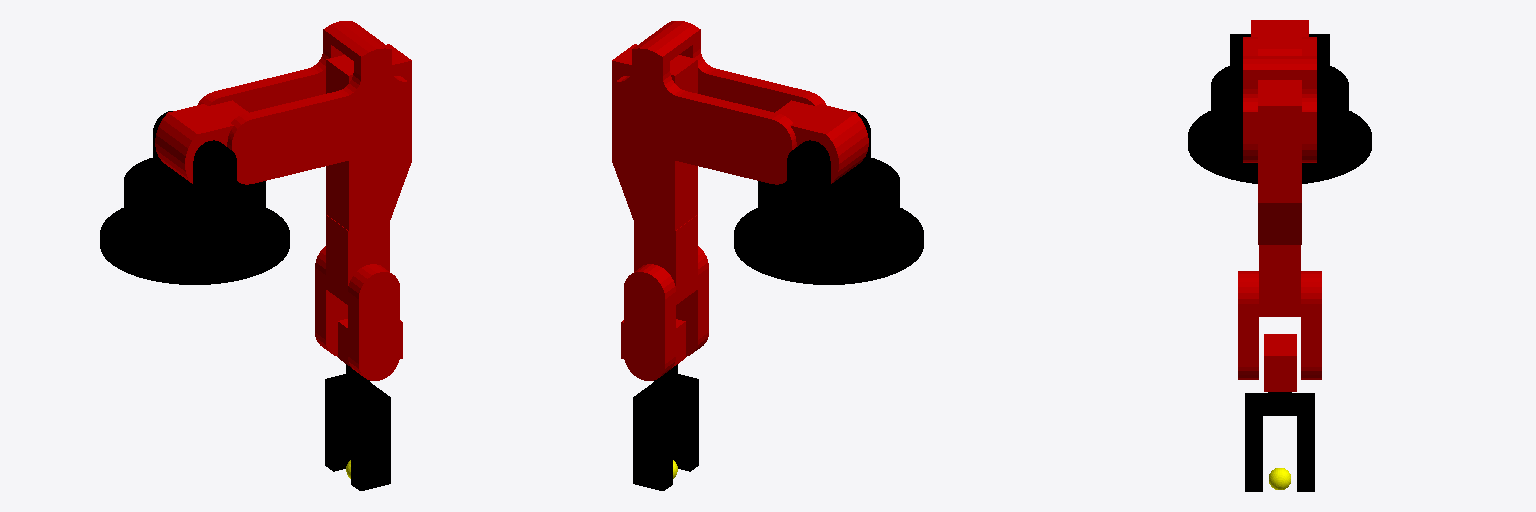
robot.urdf — kuka_lwr:
<?xml version="1.0" encoding="utf-8"?>
<!-- =================================================================================== -->
<!-- |    This document was autogenerated by xacro from fred.xacro                     | -->
<!-- |    EDITING THIS FILE BY HAND IS NOT RECOMMENDED                                 | -->
<!-- =================================================================================== -->
<robot name="kuka_lwr" xmlns:xacro="http://www.ros.org/wiki/xacro">
  <!-- right is either 1 (for right arm) or -1 (for left arm) -->
  <material name="black">
    <color rgba="0 0 0 1"/>
  </material>
  <material name="white">
    <color rgba="1 1 1 1"/>
  </material>
  <material name="red">
    <color rgba="0.8 0 0 1"/>
  </material>
  <material name="yellow">
    <color rgba="1 1 0 1"/>
  </material>
  <link name="base_link">
    <inertial>
      <origin rpy="0 0 0" xyz="0 0 0"/>
      <mass value=".0"/>
      <inertia ixx="0" ixy="0" ixz="0" iyy="0" iyz="0" izz="0"/>
    </inertial>
    <visual>
      <origin rpy="0 0 0" xyz="-0.08 -0.08 0"/>
      <geometry>
        <mesh filename="meshes_fred/base.stl" scale="0.001 0.001 0.001"/>
      </geometry>
      <material name="black"/>
    </visual>
  </link>
  <link name="base_plate">
    <inertial>
      <mass value="0.05"/>
      <origin rpy="0 0 0" xyz="0 0.09 0.0"/>
      <inertia ixx="4.50666666667e-05" ixy="0" ixz="0" iyy="9e-05" iyz="0" izz="4.50666666667e-05"/>
    </inertial>
    <visual>
      <origin rpy="0 0 0" xyz="-0.06 -0.06 0"/>
      <geometry>
        <mesh filename="meshes_fred/base_plate.stl" scale="0.001 0.001 0.001"/>
      </geometry>
      <material name="black"/>
    </visual>
  </link>
  <joint name="base_to_base_plate" type="revolute">
    <limit effort="1000.0" lower="0.0" upper="3.14159265359" velocity="10"/>
    <parent link="base_link"/>
    <child link="base_plate"/>
    <origin rpy="0 0 -1.57079632679" xyz="0 0 0.0545"/>
    <axis xyz="0 0 1"/>
  </joint>
  <link name="arm_lower">
    <inertial>
      <mass value="0.2"/>
      <origin rpy="0 0 0" xyz="0 0.09 0.0"/>
      <inertia ixx="0.0006" ixy="0" ixz="0" iyy="0.00012" iyz="0" izz="0.0006"/>
    </inertial>
    <visual>
      <origin rpy="0 1.57079632679 0" xyz="-0.032 -0.0243 0.030"/>
      <geometry>
        <mesh filename="meshes_fred/arm_lower.stl" scale="0.001 0.001 0.001"/>
      </geometry>
      <material name="red"/>
    </visual>
    <collision>
      <origin rpy="0 1.57079632679 0" xyz="-0.032 -0.0243 0.030"/>
      <geometry>
        <mesh filename="meshes_fred/arm_lower_col.stl" scale="0.001 0.001 0.001"/>
      </geometry>
    </collision>
  </link>
  <joint name="base_plate_to_arm_lower" type="revolute">
    <limit effort="1000.0" lower="0.0" upper="3.14159265359" velocity="10"/>
    <parent link="base_plate"/>
    <child link="arm_lower"/>
    <origin rpy="3.14159265359 0 3.14159265359" xyz="0 0 0.036"/>
    <axis xyz="-1 0 0"/>
  </joint>
  <link name="arm_upper">
    <inertial>
      <mass value="0.3"/>
      <origin rpy="0 0 0" xyz="0.0 0.03 -0.01"/>
      <inertia ixx="0.00045" ixy="0" ixz="0" iyy="0.00013" iyz="0" izz="0.0004"/>
    </inertial>
    <visual>
      <origin rpy="0 3.14159265359 0" xyz="0.019 -0.0415 0.02"/>
      <geometry>
        <mesh filename="meshes_fred/arm_upper.stl" scale="0.001 0.001 0.001"/>
      </geometry>
      195
      
      <material name="red"/>
    </visual>
    <collision>
      <origin rpy="0 3.14159265359 0" xyz="0.019 -0.0415 0.02"/>
      <geometry>
        <mesh filename="meshes_fred/arm_upper.stl" scale="0.001 0.001 0.001"/>
      </geometry>
      195
   
    </collision>
  </link>
  <joint name="arm_lower_to_arm_upper" type="revolute">
    <limit effort="1000.0" lower="-1.57079632679" upper="3.14159265359" velocity="10"/>
    <parent link="arm_lower"/>
    <child link="arm_upper"/>
    <origin rpy="1.57079632679 0 0" xyz="0 0.158 0"/>
    <axis xyz="-1 0 0"/>
  </joint>
  <link name="wrist">
    <inertial>
      <mass value="0.1"/>
      <origin rpy="0 0 0" xyz="0.0 0.065 0.0"/>
      <inertia ixx="0.000133333333333" ixy="0" ixz="0" iyy="5.41666666667e-05" iyz="0" izz="0.000160833333333"/>
    </inertial>
    <visual>
      <origin rpy="0 0 0" xyz="-0.036625 0 -0.02"/>
      <geometry>
        <mesh filename="meshes_fred/wrist.stl" scale="0.001 0.001 0.001"/>
      </geometry>
      <material name="red"/>
    </visual>
    <collision>
      <origin rpy="0 0 0" xyz="-0.036625 0 -0.02"/>
      <geometry>
        <mesh filename="meshes_fred/wrist.stl" scale="0.001 0.001 0.001"/>
      </geometry>
    </collision>
  </link>
  <joint name="arm_upper_to_wrist" type="continuous">
    <parent link="arm_upper"/>
    <child link="wrist"/>
    <origin xyz="0 0.102 0"/>
    <axis xyz="0 1 0"/>
  </joint>
  <link name="wrist_servo">
    <inertial>
      <mass value="0.04"/>
      <origin rpy="0 0 0" xyz="0.0 0.0 -0.015"/>
      <inertia ixx="0.00030675" ixy="0" ixz="0" iyy="9.75e-06" iyz="0" izz="0.000303"/>
    </inertial>
    <visual>
      <origin rpy="0 0 1.57079632679" xyz="0.0145 -0.017 -0.03525"/>
      <geometry>
        <mesh filename="meshes_fred/servo.stl" scale="0.001 0.001 0.001"/>
      </geometry>
      <material name="red"/>
    </visual>
    <collision>
      <origin rpy="0 0 1.57079632679" xyz="0.0145 -0.017 -0.03525"/>
      <geometry>
        <mesh filename="meshes_fred/servo.stl" scale="0.001 0.001 0.001"/>
      </geometry>
    </collision>
  </link>
  <joint name="wrist_to_wrist_servo" type="continuous">
    <parent link="wrist"/>
    <child link="wrist_servo"/>
    <origin xyz="0 0.11625 0"/>
    <axis xyz="-1 0 0"/>
  </joint>
  <link name="gripper">
    <inertial>
      <mass value="0.01"/>
      <origin rpy="0 0 0" xyz="0.0 0.038 0.0"/>
      <inertia ixx="5.4375e-06" ixy="0" ixz="0" iyy="3.75e-06" iyz="0" izz="7.6875e-06"/>
    </inertial>
    <visual>
      <origin rpy="-1.57079632679 0 0" xyz="-0.03 0 0.015"/>
      <geometry>
        <mesh filename="meshes_fred/gripper.stl" scale="0.001 0.001 0.001"/>
      </geometry>
      <material name="black"/>
    </visual>
    <collision>
      <origin rpy="-1.57079632679 0 0" xyz="-0.03 0 0.015"/>
      <geometry>
        <mesh filename="meshes_fred/gripper.stl" scale="0.001 0.001 0.001"/>
      </geometry>
    </collision>
  </link>
  <joint name="wrist_servo_to_gripper" type="continuous">
    <parent link="wrist_servo"/>
    <child link="gripper"/>
    <origin xyz="0 0.017 0"/>
    <axis xyz="0 1 0"/>
  </joint>
  <link name="sphere1">
    <inertial>
      <origin rpy="0 0 0" xyz="0 0 0"/>
      <mass value=".0"/>
      <inertia ixx="0" ixy="0" ixz="0" iyy="0" iyz="0" izz="0"/>
    </inertial>
    <visual>
      <origin rpy="0 0 0" xyz="0 0 0"/>
      <geometry>
        <sphere radius="0.01"/>
      </geometry>
      <material name="yellow"/>
    </visual>
    <collision>
      <origin rpy="0 0 0" xyz="0 0 0"/>
      <geometry>
        <sphere radius="0.01"/>
      </geometry>
    </collision>
  </link>
  <joint name="wrist_to_sphere1" type="continuous">
    <parent link="wrist"/>
    <child link="sphere1"/>
    <origin xyz="0 0.05 0"/>
    <axis xyz="0 1 0"/>
  </joint>
  <link name="sphere2">
    <inertial>
      <origin rpy="0 0 0" xyz="0 0 0"/>
      <mass value=".0"/>
      <inertia ixx="0" ixy="0" ixz="0" iyy="0" iyz="0" izz="0"/>
    </inertial>
    <visual>
      <origin rpy="0 0 0" xyz="0 0 0"/>
      <geometry>
        <sphere radius="0.01"/>
      </geometry>
      <material name="yellow"/>
    </visual>
    <collision>
      <origin rpy="0 0 0" xyz="0 0 0"/>
      <geometry>
        <sphere radius="0.01"/>
      </geometry>
    </collision>
  </link>
  <joint name="wrist_servo_to_sphere2" type="continuous">
    <parent link="wrist_servo"/>
    <child link="sphere2"/>
    <origin xyz="0 0 0"/>
    <axis xyz="0 1 0"/>
  </joint>
  <link name="sphere3">
    <inertial>
      <origin rpy="0 0 0" xyz="0 0 0"/>
      <mass value=".0"/>
      <inertia ixx="0" ixy="0" ixz="0" iyy="0" iyz="0" izz="0"/>
    </inertial>
    <visual>
      <origin rpy="0 0 0" xyz="0 0 0"/>
      <geometry>
        <sphere radius="0.01"/>
      </geometry>
      <material name="yellow"/>
    </visual>
    <collision>
      <origin rpy="0 0 0" xyz="0 0 0"/>
      <geometry>
        <sphere radius="0.01"/>
      </geometry>
    </collision>
  </link>
  <joint name="wrist_sphere3" type="continuous">
    <parent link="gripper"/>
    <child link="sphere3"/>
    <origin xyz="0 0.1 0"/>
    <axis xyz="0 1 0"/>
  </joint>
</robot>

--- Render facts (derived) ---
The picture shows the robot from 3 angles, left to right: view 1: azimuth 30°, elevation 25°; view 2: azimuth 150°, elevation 25°; view 3: azimuth 270°, elevation 25°; orthographic projection.
Robot: kuka_lwr — 10 links, 9 joints (3 revolute, 6 continuous); root link base_link; default pose: all joints at 0.
Links seen in each view (by area): view 1: arm_lower, base_link, wrist, arm_upper, base_plate, gripper, wrist_servo; view 2: arm_lower, base_link, wrist, arm_upper, base_plate, gripper, wrist_servo; view 3: wrist, arm_upper, base_link, arm_lower, gripper, base_plate, wrist_servo.
Boxes of the visible links, x1=… form: arm_lower: x1=155, y1=21, x2=407, y2=184; base_link: x1=100, y1=190, x2=289, y2=284; wrist: x1=315, y1=215, x2=399, y2=380; arm_upper: x1=326, y1=44, x2=411, y2=230; base_plate: x1=124, y1=111, x2=265, y2=215; gripper: x1=325, y1=364, x2=390, y2=490; wrist_servo: x1=338, y1=319, x2=402, y2=367; arm_lower: x1=616, y1=21, x2=868, y2=184; base_link: x1=734, y1=190, x2=923, y2=284; wrist: x1=624, y1=215, x2=708, y2=380; arm_upper: x1=612, y1=44, x2=697, y2=230; base_plate: x1=758, y1=111, x2=899, y2=215; gripper: x1=633, y1=364, x2=698, y2=490; wrist_servo: x1=621, y1=319, x2=685, y2=367; wrist: x1=1238, y1=245, x2=1321, y2=379; arm_upper: x1=1258, y1=80, x2=1301, y2=244; base_link: x1=1188, y1=93, x2=1371, y2=183; arm_lower: x1=1243, y1=20, x2=1316, y2=162; gripper: x1=1245, y1=392, x2=1314, y2=491; base_plate: x1=1211, y1=34, x2=1348, y2=113; wrist_servo: x1=1264, y1=334, x2=1296, y2=391.
Size in the robot's own frame: 0.2795 by 0.1596 by 0.412 metres.
7 mesh visuals loaded from 7 distinct referenced files (7 binary STL).
